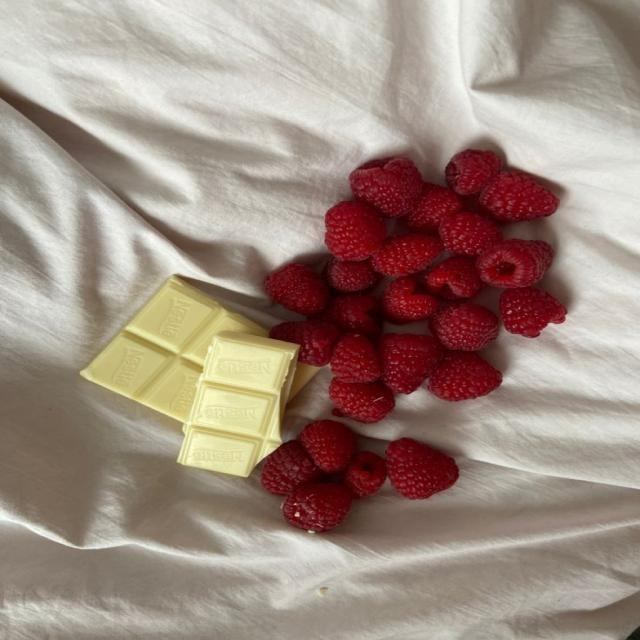raspberry: (387, 438, 459, 499), (349, 158, 422, 217), (378, 334, 444, 394), (480, 172, 559, 222), (428, 351, 501, 401), (477, 239, 553, 287), (325, 201, 386, 260), (265, 263, 329, 315), (283, 483, 352, 531), (269, 320, 341, 366), (430, 303, 499, 350), (500, 288, 566, 337), (261, 441, 322, 494), (372, 234, 442, 276), (329, 378, 394, 423), (300, 420, 356, 472), (406, 184, 463, 233), (440, 212, 502, 256), (382, 276, 439, 323), (321, 294, 381, 337), (446, 149, 501, 195), (426, 256, 482, 300), (330, 334, 381, 382), (343, 451, 386, 497), (324, 258, 379, 292)
white chocolate: (81, 275, 267, 421), (177, 330, 297, 476), (251, 363, 318, 465), (189, 446, 235, 472)
